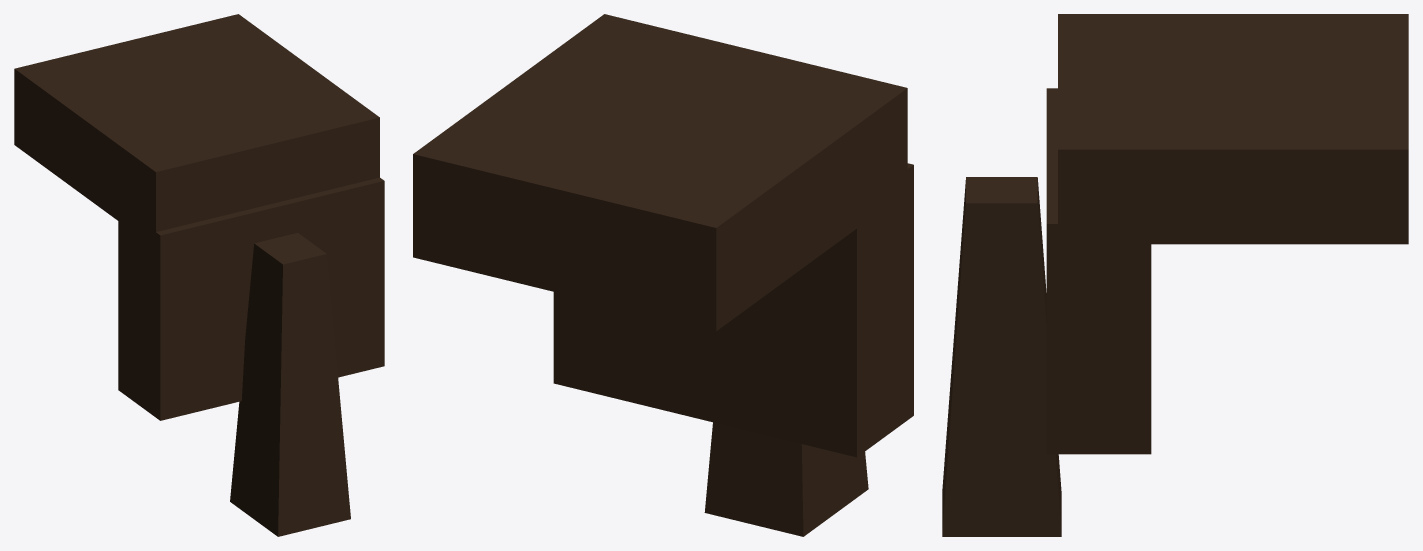
The model's file is acc_hair_pony.glb.
3 renders of one model, left to right at view 1: azimuth 30°, elevation 25°; view 2: azimuth 150°, elevation 25°; view 3: azimuth 270°, elevation 25°, orthographic. The views are drawn at different scales.
Visible parts, largest first — view 1: acc_hair_pony__mesh; view 2: acc_hair_pony__mesh; view 3: acc_hair_pony__mesh.
Part boxes in pixels (bbox=[...]): acc_hair_pony__mesh: bbox=[14, 14, 384, 536]; acc_hair_pony__mesh: bbox=[413, 14, 913, 536]; acc_hair_pony__mesh: bbox=[942, 14, 1408, 536].
Size of the model in its own units: 0.215 by 0.32 by 0.3125.
